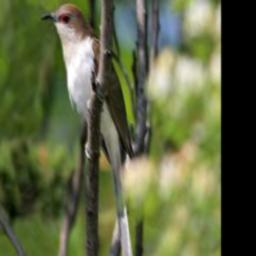Cuckoo: (38, 0, 135, 256)
